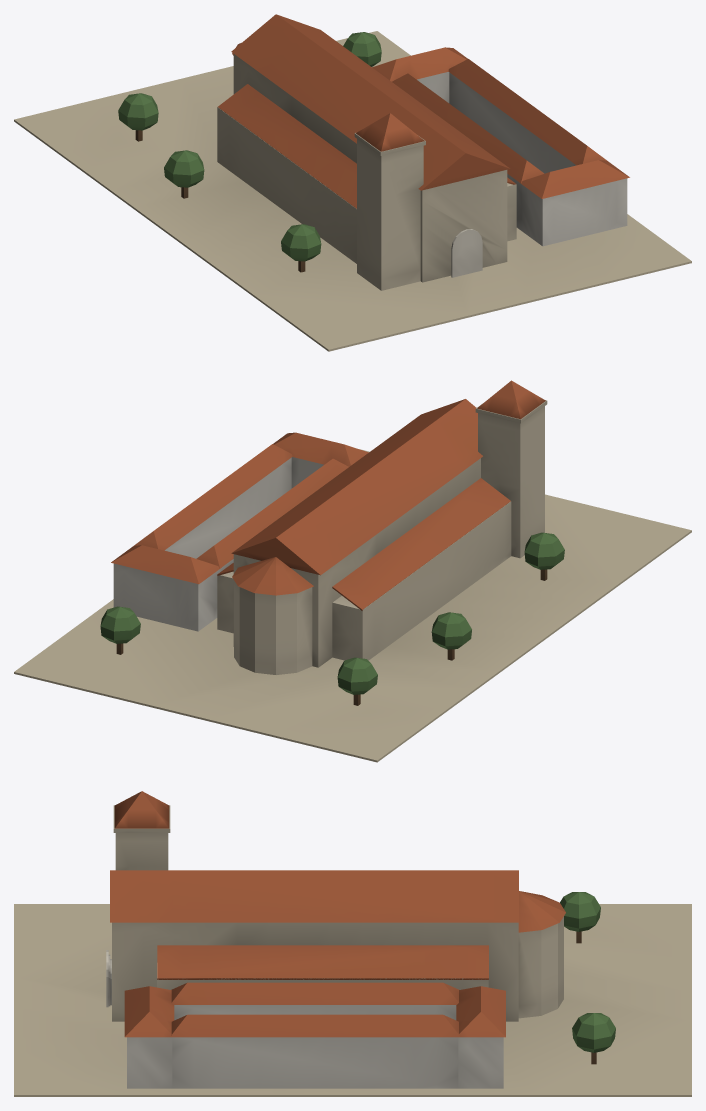
The model's file is sao-vicente-old.glb.
3 renders of one model, top to bottom at view 1: azimuth 30°, elevation 25°; view 2: azimuth 150°, elevation 25°; view 3: azimuth 270°, elevation 25°, orthographic. The views are drawn at different scales.
Parts seen in each view (by area): view 1: p1_church, p0_ground, p2_front; view 2: p1_church, p0_ground, p2_front; view 3: p1_church, p0_ground, p2_front.
Boxes of the visible parts, x1=… form: p1_church: x1=217, y1=14, x2=629, y2=282; p0_ground: x1=14, y1=31, x2=691, y2=351; p2_front: x1=118, y1=32, x2=425, y2=290; p1_church: x1=111, y1=399, x2=511, y2=674; p0_ground: x1=14, y1=449, x2=691, y2=762; p2_front: x1=100, y1=380, x2=564, y2=705; p1_church: x1=106, y1=870, x2=565, y2=1088; p0_ground: x1=14, y1=904, x2=691, y2=1096; p2_front: x1=113, y1=791, x2=615, y2=1064.
Bounding box in the file's own units: 60 × 26.15 × 90.
